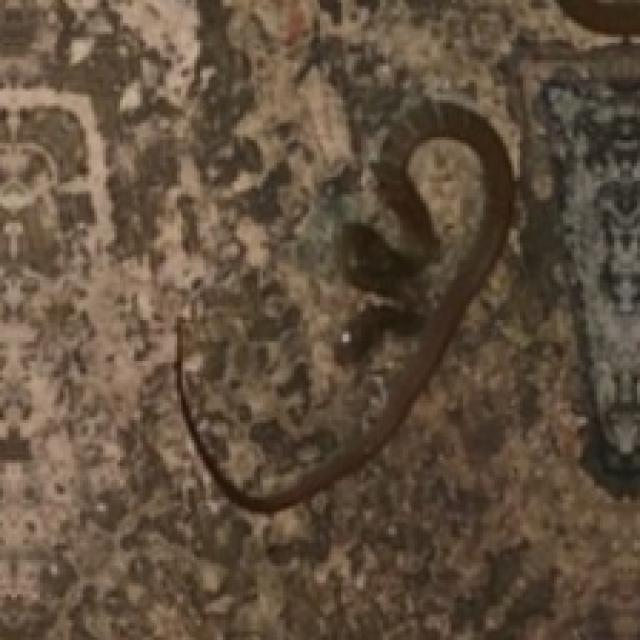reddish rat snake: (177, 100, 511, 509)
